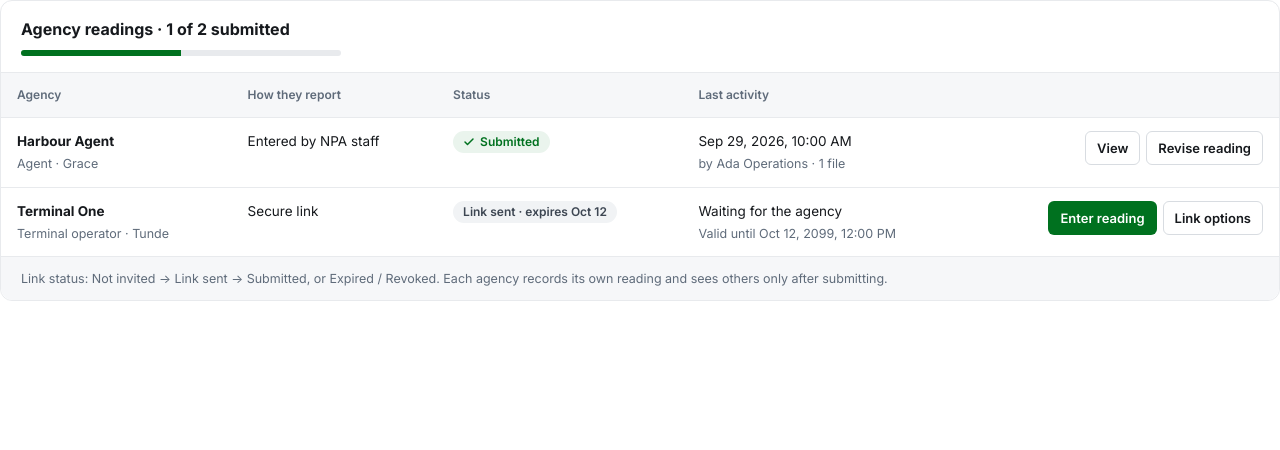
Test: agency readings tracker › offers replace or revoke for an existing link without showing its address
Click the button "Link options" at (1213,218), box [1163,201,1263,235]
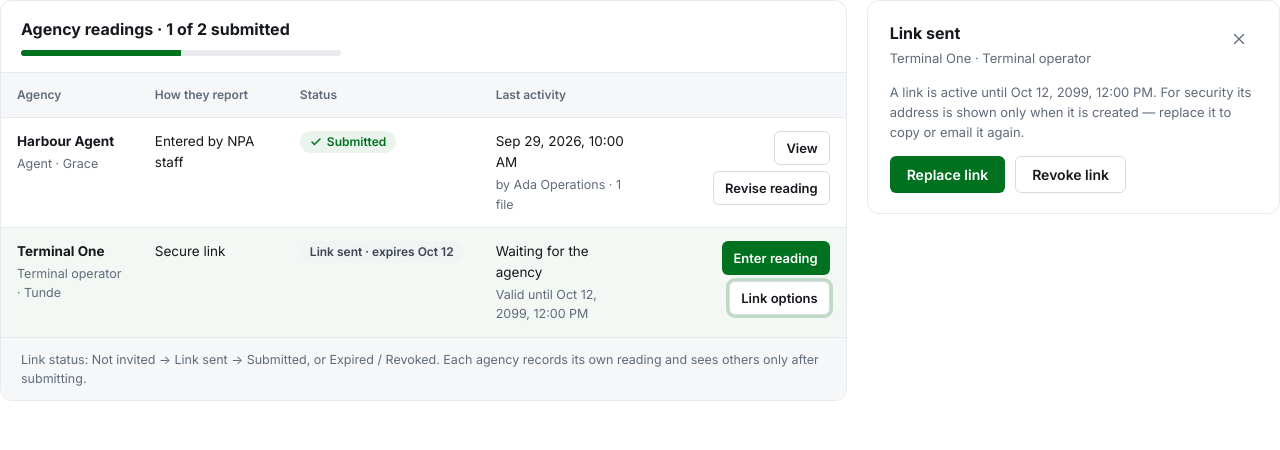
Expected: the heading "Link sent" is shown, [890,23,960,43]
Expected: the text "its address is shown only when it is created" is shown, [890,84,1251,140]
Click the button "Replace link" at (947,175), box [890,156,1005,193]
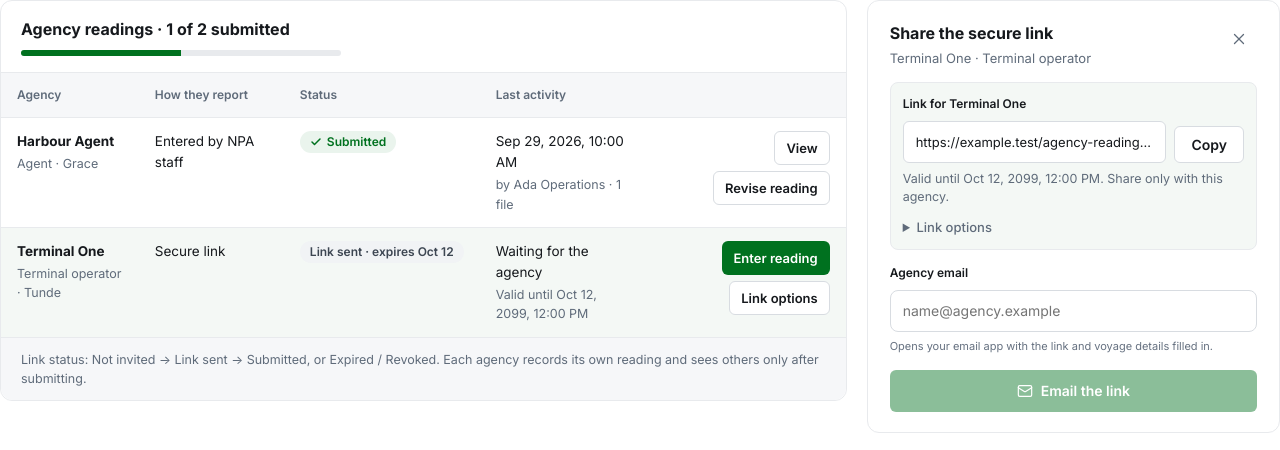
Expected: the field labelled "Link for Terminal One" holds "https://example.test/agency-reading#token=replacement", [903,120,1166,163]
